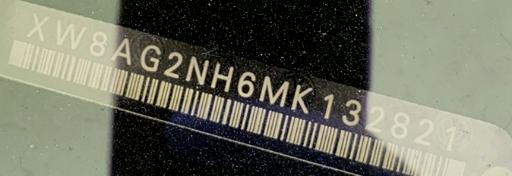letter: (258, 75, 290, 109), (54, 17, 86, 50), (24, 9, 50, 41), (184, 55, 210, 86), (138, 42, 162, 73), (210, 62, 234, 92), (290, 83, 314, 113), (338, 97, 362, 127), (362, 103, 386, 132), (412, 116, 434, 147), (388, 110, 410, 139), (110, 37, 132, 66), (162, 50, 184, 78), (237, 70, 257, 98), (88, 30, 108, 57), (320, 90, 336, 121), (444, 123, 456, 152)
